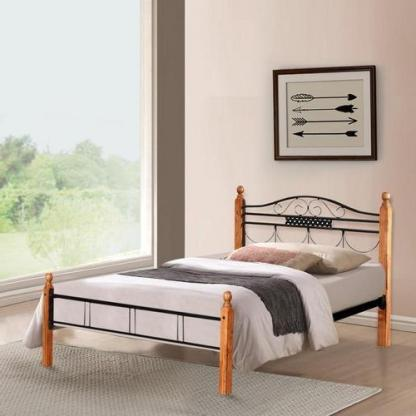bed: (39, 185, 401, 390)
